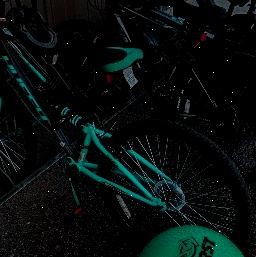algae: (129, 226, 256, 257)
